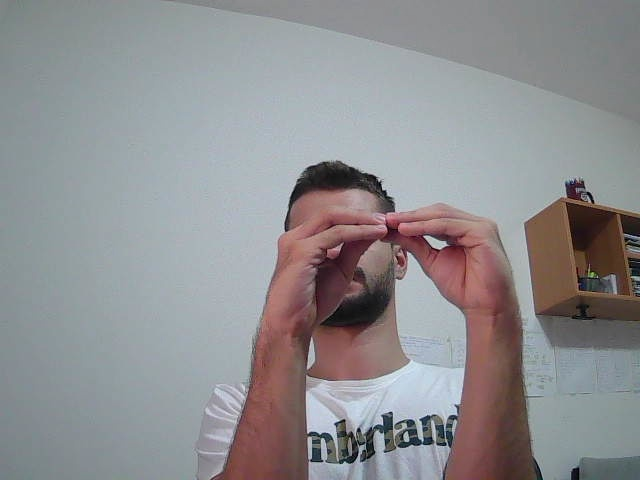b: (240, 194, 545, 414)
